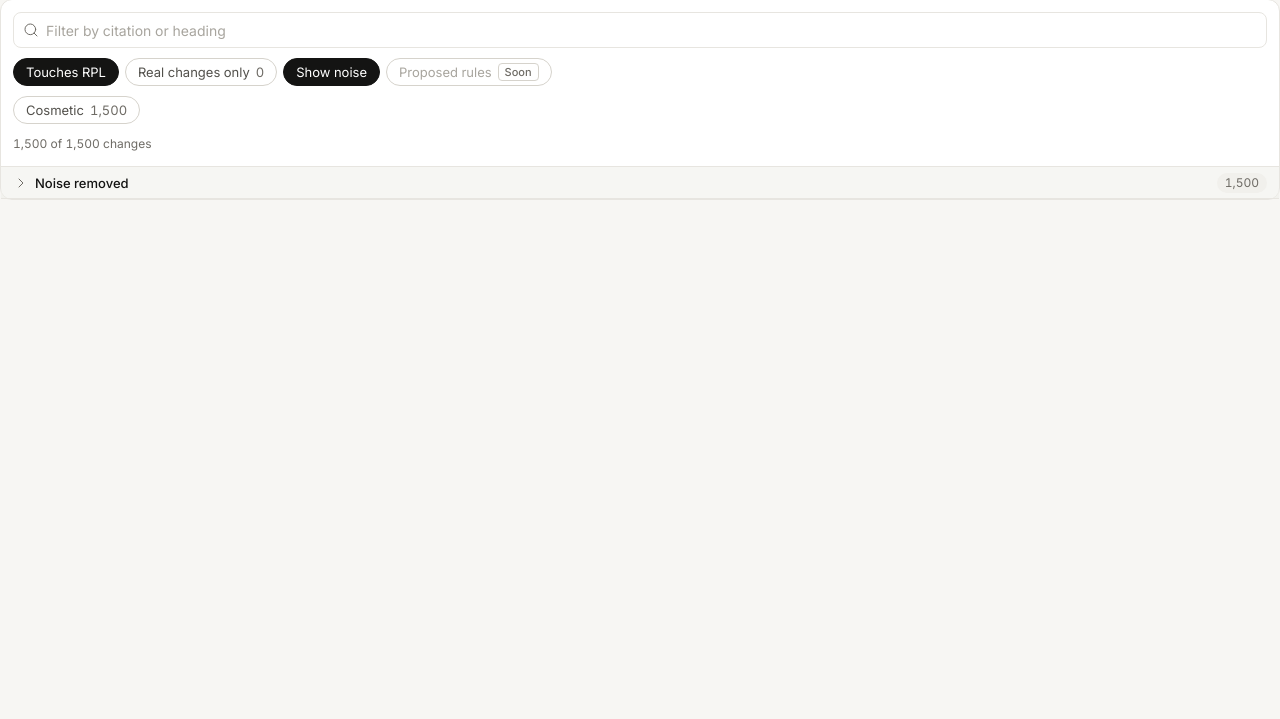
Test: ChangeTree rendering › renders only paged rows for a huge noise set and a reset on empty results
Expected: the number of list items is 1, [1,167,1279,199]
What coordinates should you click on to do the following:
click the text "Noise removed"
I would click on:
 (82, 182)
Its box is [35,172,129,192].
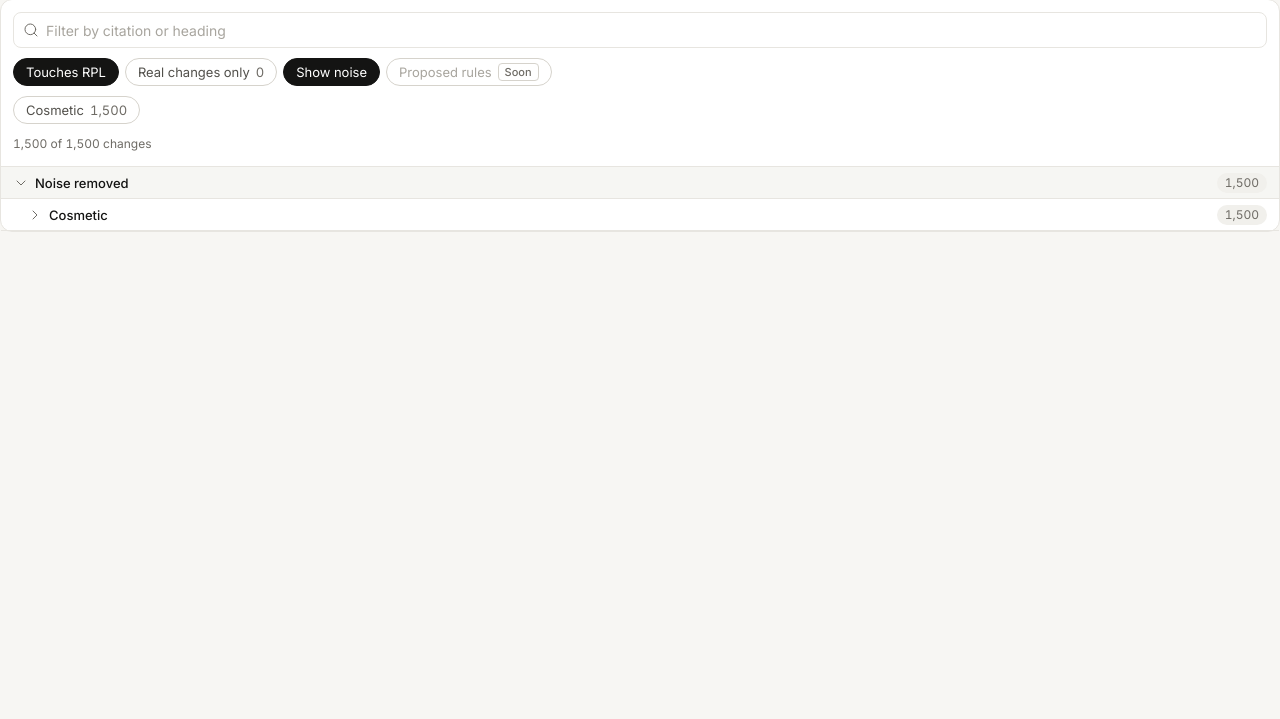
What coordinates should you click on to do the following:
click the text "Cosmetic"
I would click on:
 (78, 214)
Its box is [49,204,108,224].
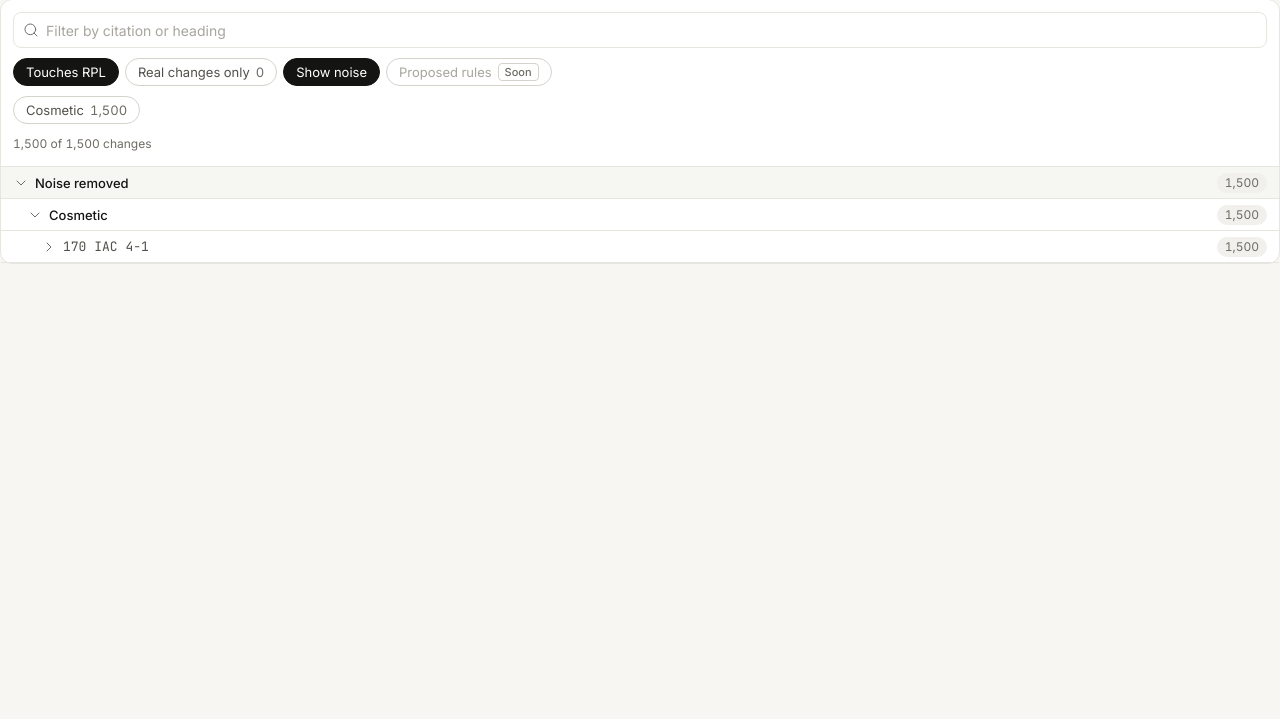
What coordinates should you click on to do the following:
click the text "170 IAC 4-1"
I would click on:
 (106, 246)
Its box is [63,236,149,256].
(page scrolled)
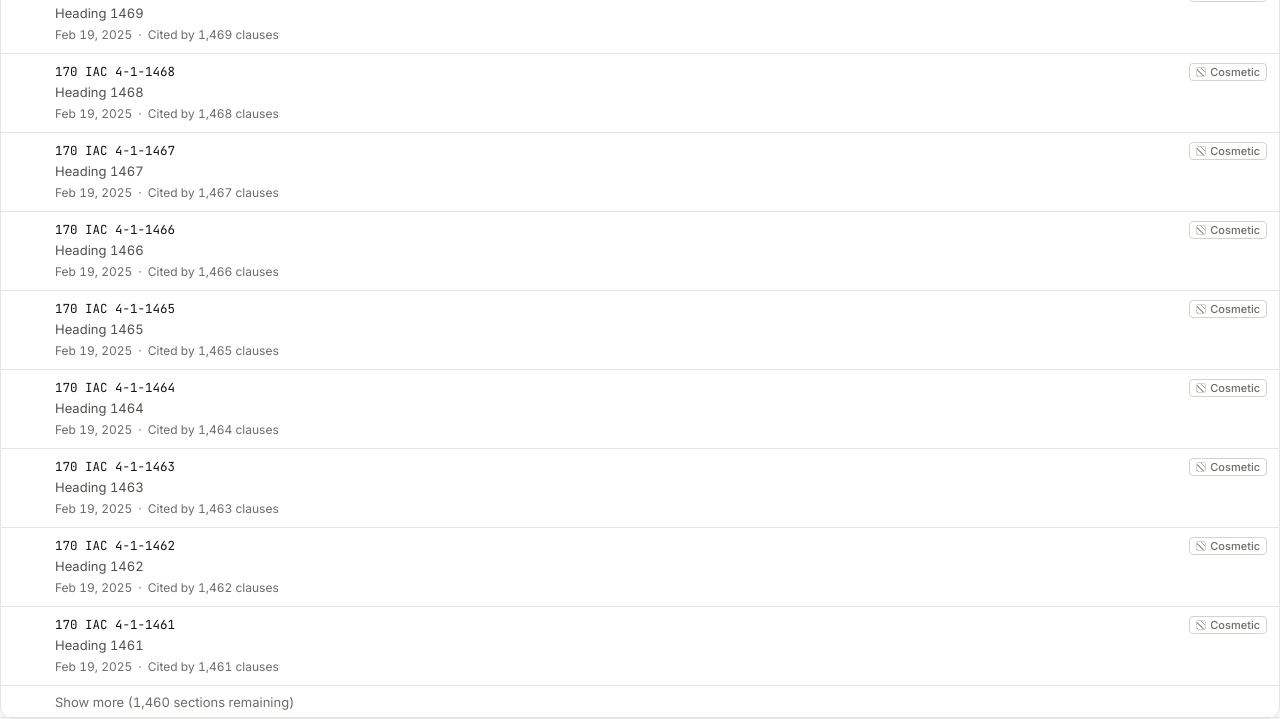
Expected: the button "Show more (1,460 sections remaining)" is shown, [1,686,1279,718]
